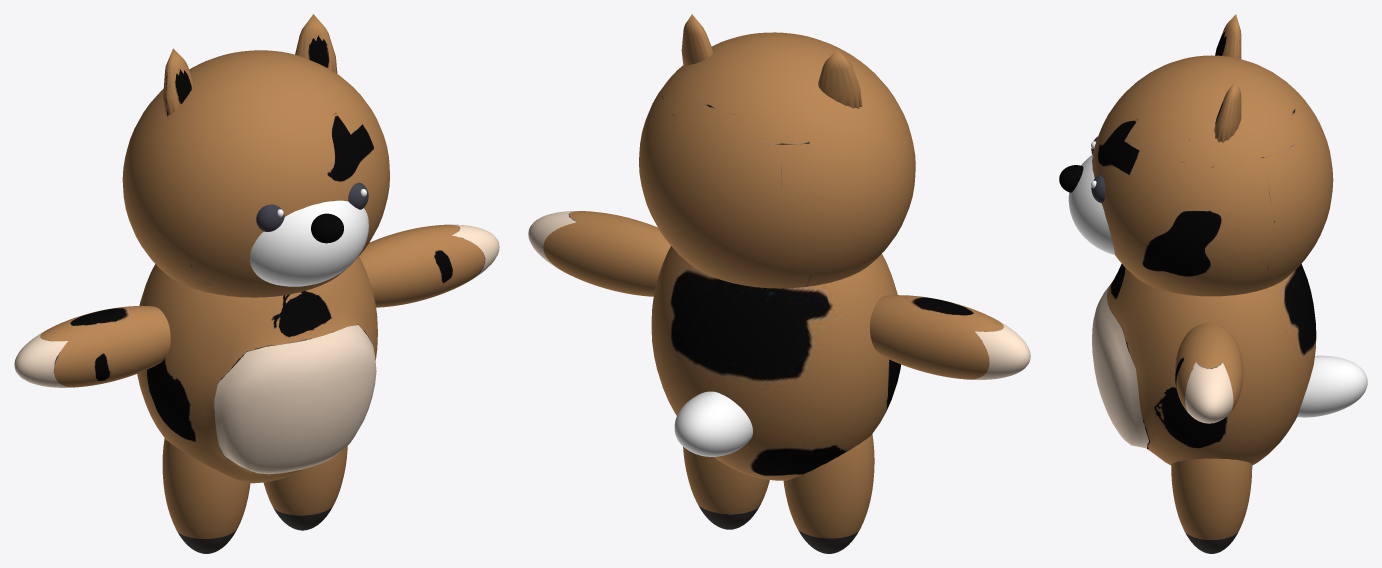
Rendered from Abarca_dayson_Kyusoru.fbx.
3 renders of one model, left to right at view 1: azimuth 30°, elevation 25°; view 2: azimuth 150°, elevation 25°; view 3: azimuth 270°, elevation 25°, orthographic. The views are drawn at different scales.
Parts seen in each view (by area): view 1: Head, Torso, Arm_L, Arm_L.001, Muzzle.001, Leg_L, Leg_L.001, Ear_R, Ear_L, Nose.001, Eye_L; view 2: Head, Torso, Arm_L, Arm_L.001, Leg_L, Leg_L.001, Tail, Ear_L, Ear_R; view 3: Head, Torso, Leg_L.001, Arm_L.001, Tail, Muzzle.001, Ear_R, Ear_L, Nose.001.
Part boxes in pixels (left/top/right/bottom): Head: left=122, top=50, right=389, bottom=297; Torso: left=137, top=256, right=377, bottom=483; Arm_L: left=14, top=306, right=170, bottom=387; Arm_L.001: left=359, top=224, right=499, bottom=307; Muzzle.001: left=250, top=200, right=368, bottom=286; Leg_L: left=162, top=438, right=250, bottom=553; Leg_L.001: left=263, top=446, right=347, bottom=530; Ear_R: left=295, top=14, right=337, bottom=73; Ear_L: left=163, top=48, right=193, bottom=116; Nose.001: left=311, top=213, right=343, bottom=243; Eye_L: left=256, top=204, right=284, bottom=231; Head: left=639, top=32, right=915, bottom=288; Torso: left=651, top=246, right=901, bottom=480; Arm_L: left=870, top=295, right=1030, bottom=379; Arm_L.001: left=528, top=211, right=670, bottom=296; Leg_L: left=783, top=434, right=874, bottom=553; Leg_L.001: left=683, top=446, right=769, bottom=529; Tail: left=674, top=391, right=752, bottom=456; Ear_L: left=818, top=49, right=862, bottom=108; Ear_R: left=681, top=14, right=713, bottom=65; Head: left=1092, top=55, right=1333, bottom=296; Torso: left=1092, top=264, right=1316, bottom=465; Leg_L.001: left=1171, top=458, right=1252, bottom=553; Arm_L.001: left=1174, top=323, right=1243, bottom=423; Tail: left=1297, top=355, right=1367, bottom=417; Muzzle.001: left=1068, top=154, right=1114, bottom=254; Ear_R: left=1214, top=80, right=1241, bottom=142; Ear_L: left=1215, top=14, right=1241, bottom=58; Nose.001: left=1059, top=165, right=1083, bottom=192.
Bounding box in the file's own units: 313 × 310 × 180.
Materials: 13 (9 with a texture image).
